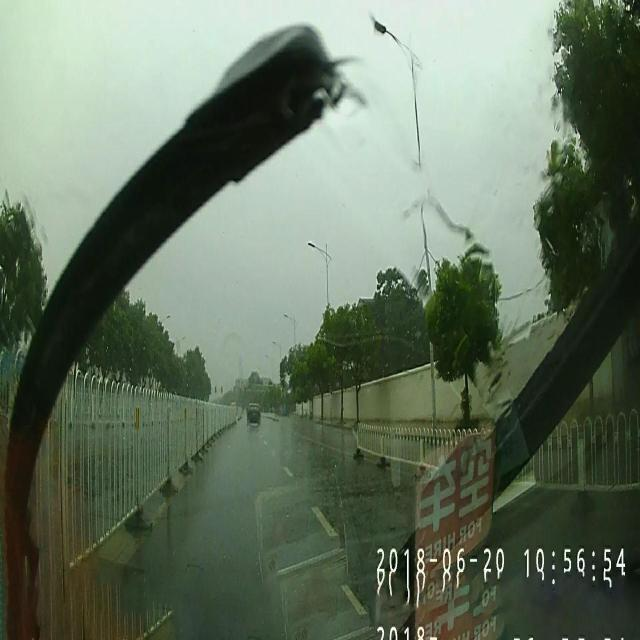car: (246, 402, 262, 427)
